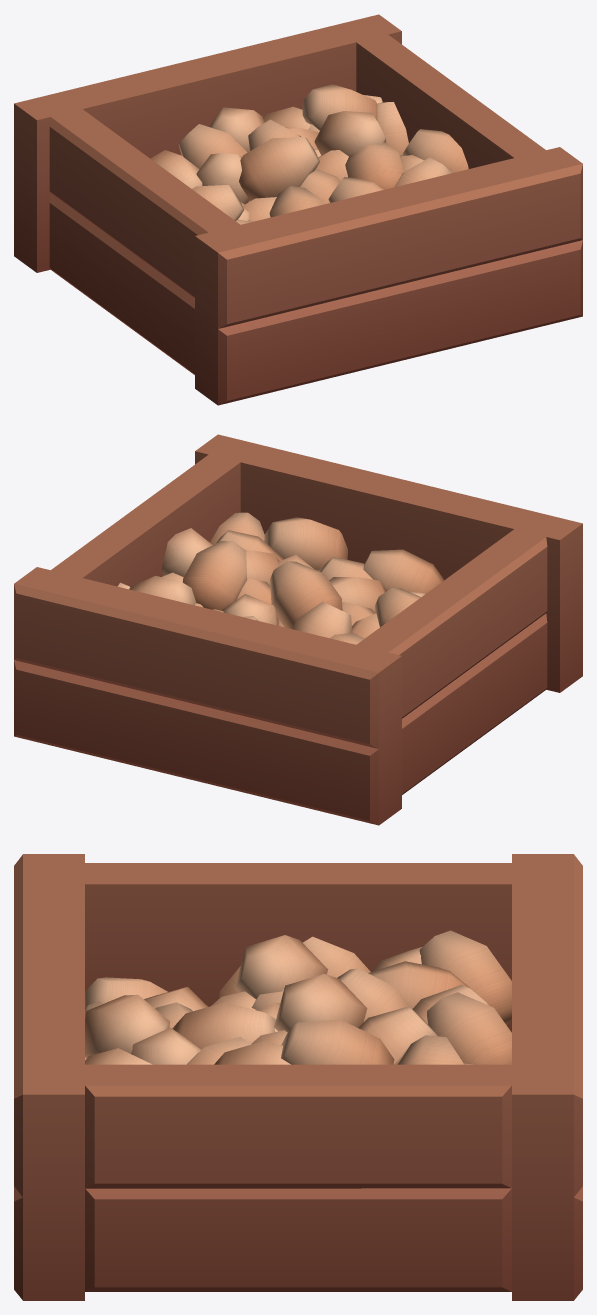
File: crate_eggs.glb
The picture shows the model from 3 angles, top to bottom: view 1: azimuth 30°, elevation 25°; view 2: azimuth 150°, elevation 25°; view 3: azimuth 270°, elevation 25°; orthographic projection. The views are drawn at different scales.
Parts seen in each view (by area): view 1: crate; view 2: crate; view 3: crate.
Part boxes in pixels (x1,y1,x2,y2): crate: [14, 14, 582, 405]; crate: [14, 434, 582, 825]; crate: [14, 854, 582, 1300].
Size of the model in its own units: 2 by 0.8227 by 2.
2 materials, 2 textured.
